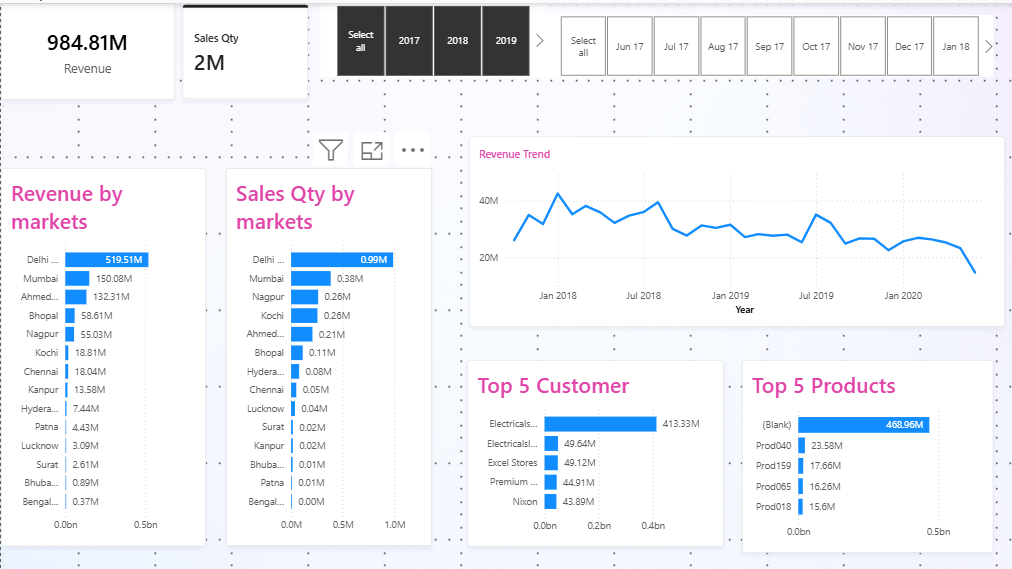

This screenshot's page, from the dashboard's own definition file:
{"tool":"powerbi","page":{"name":"Page 1","canvas":[1280,720],"ordinal":0},"visuals":[{"type":"card","fields":{"Values":["Base measures.Revenue"]},"box":[0,0,218,121.1],"z":0},{"type":"cardVisual","fields":{"Data":["Base measures.Sales Qty"]},"box":[227.1,1.5,159,119.6],"z":1000},{"type":"barChart","title":"Revenue by markets","fields":{"Y":["Base measures.Revenue"],"Category":["sales markets.markets_name"]},"box":[0,207.9,257,474.3],"z":2000},{"type":"barChart","title":"Sales Qty by markets","fields":{"Y":["Base measures.Sales Qty"],"Category":["sales markets.markets_name"]},"box":[281.6,207.9,258.9,474.3],"z":3000},{"type":"slicer","fields":{"Values":["sales date.year"]},"box":[400.4,1.9,281.2,91.3],"z":4000},{"type":"slicer","fields":{"Values":["sales date.cy_date"]},"box":[681.6,14.9,564.3,78.2],"z":5000},{"type":"barChart","title":"Top 5 Customer","fields":{"Y":["Base measures.Revenue"],"Category":["sales customers.custmer_name"]},"box":[585.8,447.9,321.3,234.3],"z":6000},{"type":"barChart","title":"Top 5 Products","fields":{"Y":["Base measures.Revenue"],"Category":["sales products.product_code"]},"box":[929.8,447.9,315.6,241.9],"z":7000},{"type":"lineChart","title":"Revenue Trend","fields":{"Y":["Base measures.Revenue"],"Category":["sales date.cy_date.Variation.Date Hierarchy.Year","sales date.cy_date.Variation.Date Hierarchy.Quarter","sales date.cy_date.Variation.Date Hierarchy.Month","sales date.cy_date.Variation.Date Hierarchy.Day"]},"box":[586.6,167.6,672.3,238.4],"z":8000}]}

Visuals, with their boxes in screenshot pixels (x1, y1, x2, y2), scaled from the page's 1280x720 canvas onto the 1012x569 screenshot:
card - Base measures.Revenue: <bbox>0, 0, 172, 96</bbox>
cardVisual - Base measures.Sales Qty: <bbox>180, 1, 305, 96</bbox>
"Revenue by markets" barChart: <bbox>0, 164, 203, 539</bbox>
"Sales Qty by markets" barChart: <bbox>223, 164, 427, 539</bbox>
slicer - sales date.year: <bbox>317, 2, 539, 74</bbox>
slicer - sales date.cy_date: <bbox>539, 12, 985, 74</bbox>
"Top 5 Customer" barChart: <bbox>463, 354, 717, 539</bbox>
"Top 5 Products" barChart: <bbox>735, 354, 985, 545</bbox>
"Revenue Trend" lineChart: <bbox>464, 132, 995, 321</bbox>
